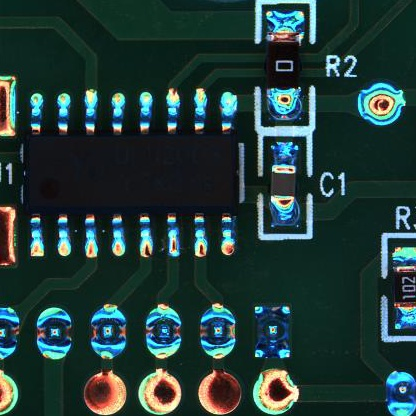spot: (252, 304, 292, 362), (200, 301, 237, 362), (89, 303, 127, 360), (357, 83, 405, 127), (145, 305, 182, 362), (36, 307, 73, 363), (383, 370, 414, 415)
